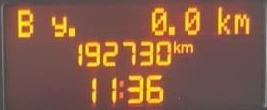0: (150, 5, 167, 35), (184, 6, 200, 34), (155, 40, 172, 65)
1: (88, 75, 99, 105), (107, 75, 116, 104), (75, 41, 84, 66)
2: (101, 40, 117, 67)
3: (126, 74, 143, 106), (137, 40, 151, 66)
6: (146, 73, 165, 104)
7: (120, 39, 137, 66)
9: (85, 40, 98, 68)
X: (15, 7, 33, 39), (216, 4, 231, 35), (49, 13, 66, 37), (234, 11, 249, 34), (117, 77, 125, 100), (180, 42, 193, 53), (172, 38, 180, 53), (66, 26, 76, 37), (167, 24, 175, 35)
